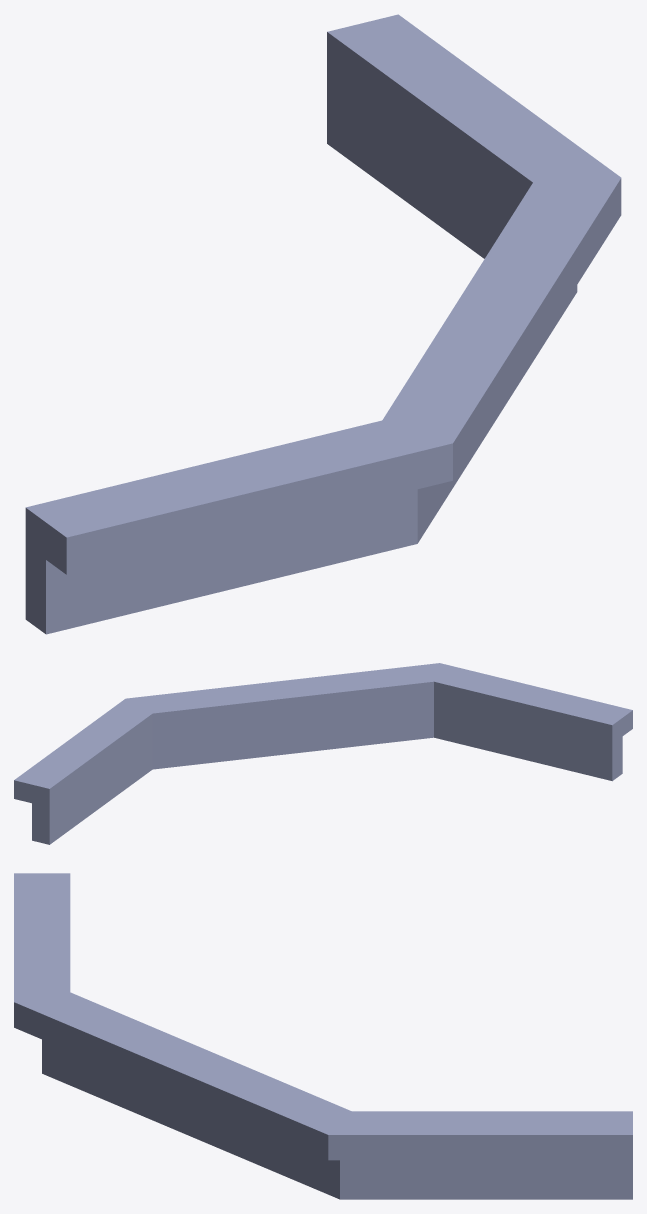
File: border-corner-diagonal.obj
The picture shows the model from 3 angles, top to bottom: view 1: azimuth 30°, elevation 25°; view 2: azimuth 150°, elevation 25°; view 3: azimuth 270°, elevation 25°; orthographic projection. The views are drawn at different scales.
Bounding box in the file's own units: 2.2 × 0.3 × 2.2.
